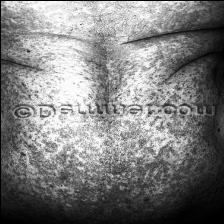Toxin: (70, 148, 104, 190), (134, 15, 178, 42)
